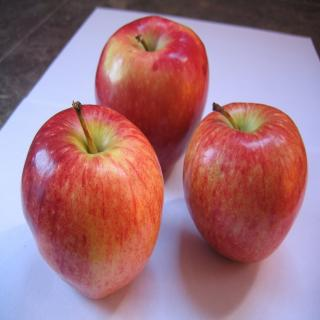Apple: (19, 99, 164, 300), (182, 100, 308, 264), (95, 15, 208, 172)
